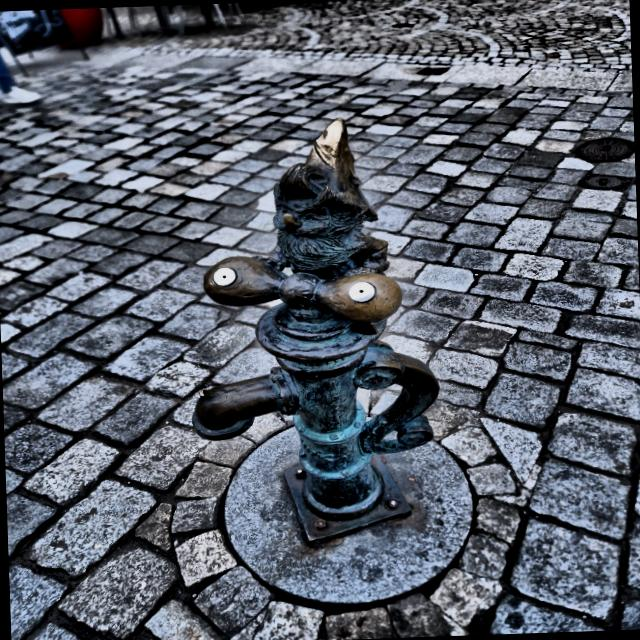Orzezwiacz: (192, 120, 439, 548)
